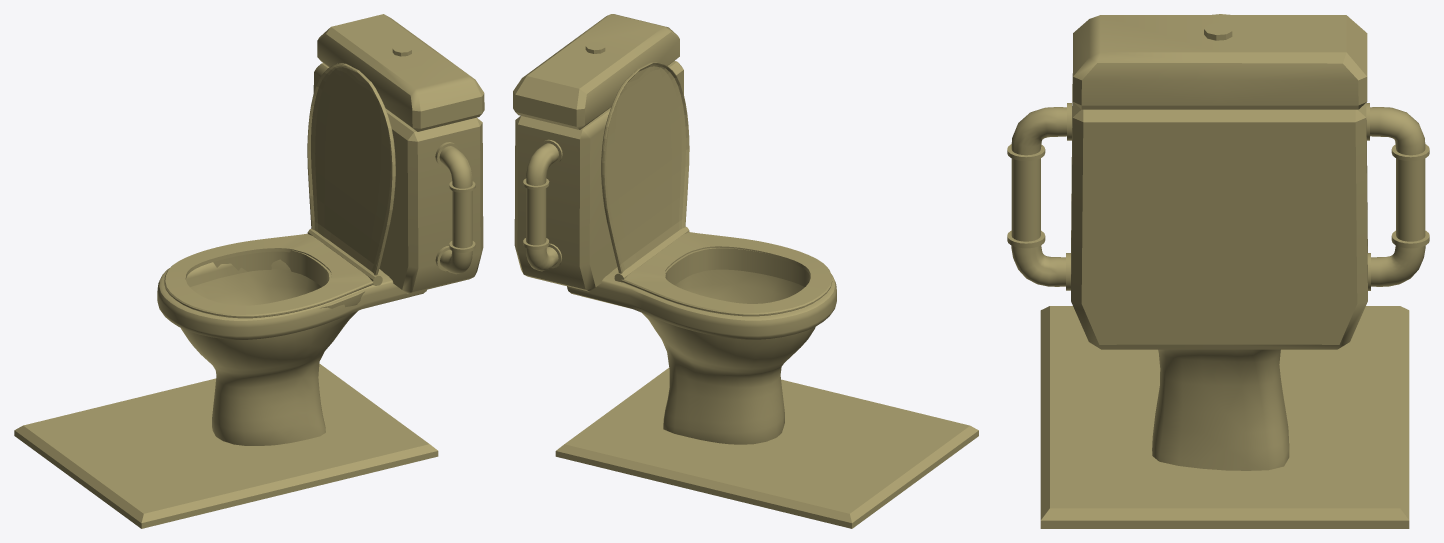
File: Toilette.fbx
3 views of the same model, side by side, from view 1: azimuth 30°, elevation 25°; view 2: azimuth 150°, elevation 25°; view 3: azimuth 270°, elevation 25° (orthographic). The views are drawn at different scales.
Visible parts, largest first — view 1: toilette; view 2: toilette; view 3: toilette.
Part boxes in pixels (x1,y1,x2,y2): toilette: (14,14,484,528); toilette: (513,14,978,528); toilette: (1007,14,1429,528).
Bounding box in the file's own units: 7.83 × 7.61 × 5.53.
